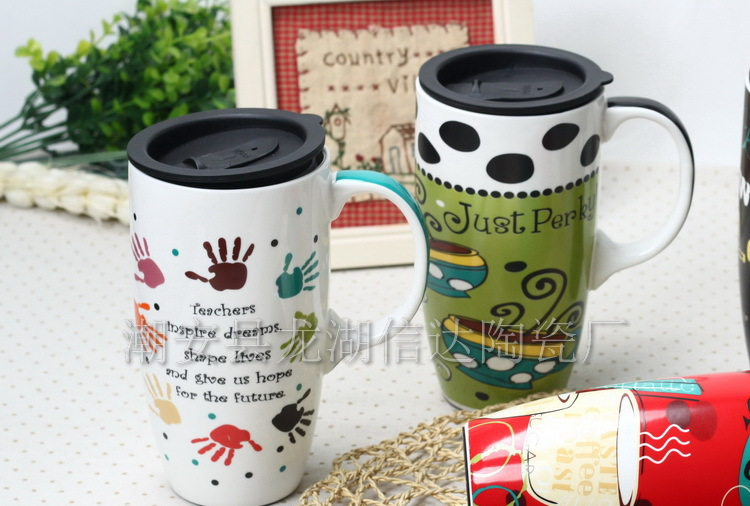cup: (124, 106, 429, 506), (413, 41, 696, 420)
